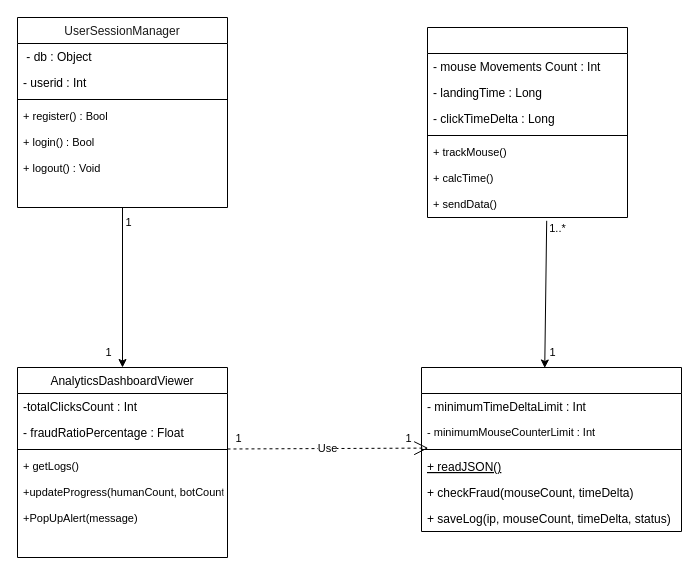
This 699x575 diagram has some shape labels left out. The shapes that lost their labels are listed below. From the top down, each one's box as (x1, y1, x2, y2) in pixels, then its label:
(426, 26, 628, 218): Client Telemetry Tracker
(420, 366, 682, 532): FraudDetectionEngine
